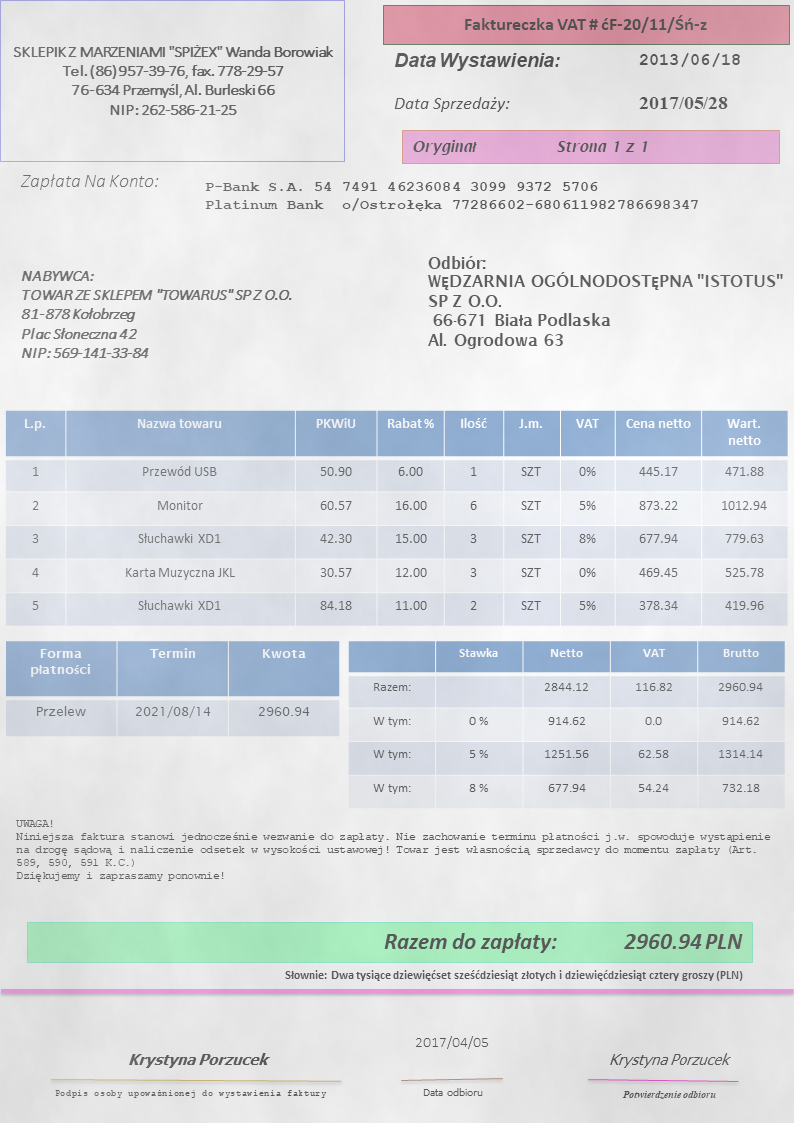Table: (4, 410, 790, 628), (347, 640, 788, 809), (3, 640, 340, 738)
TextBox: (12, 816, 773, 886), (426, 254, 786, 352), (17, 267, 297, 363), (10, 39, 335, 120), (202, 177, 703, 216), (282, 966, 745, 985), (381, 930, 745, 954), (462, 14, 710, 35), (52, 1085, 327, 1103), (413, 136, 653, 156), (393, 49, 563, 73), (17, 172, 162, 193), (127, 1051, 272, 1072), (607, 1049, 733, 1071), (392, 95, 511, 114), (637, 50, 742, 71), (412, 1030, 491, 1053), (638, 94, 728, 113), (621, 1088, 719, 1102), (421, 1084, 486, 1100)
